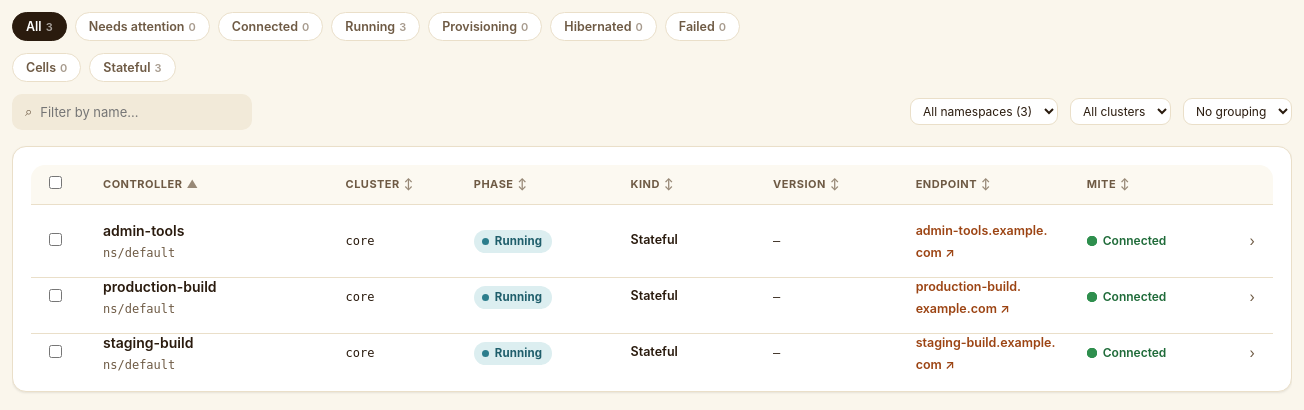
Test: BroodControllerPicker › Name filter › filters controllers by name when typing in search box
Type "build" into the field with placeholder "Filter by name...".
click(141, 112); type("build")  # box [40, 104, 242, 120]
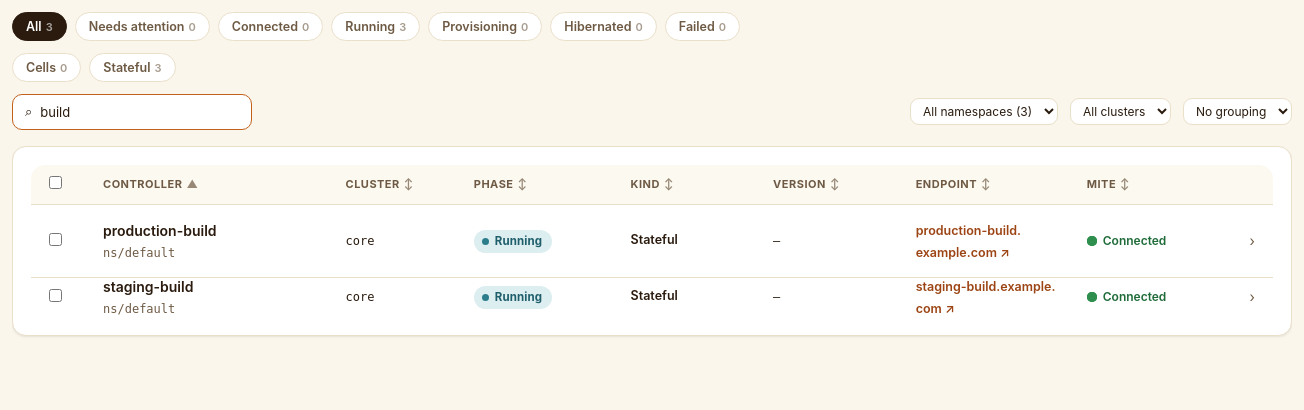
Expected: the text "production-build" is shown, [103, 220, 217, 241]
Expected: the button "admin-tools" is gone
